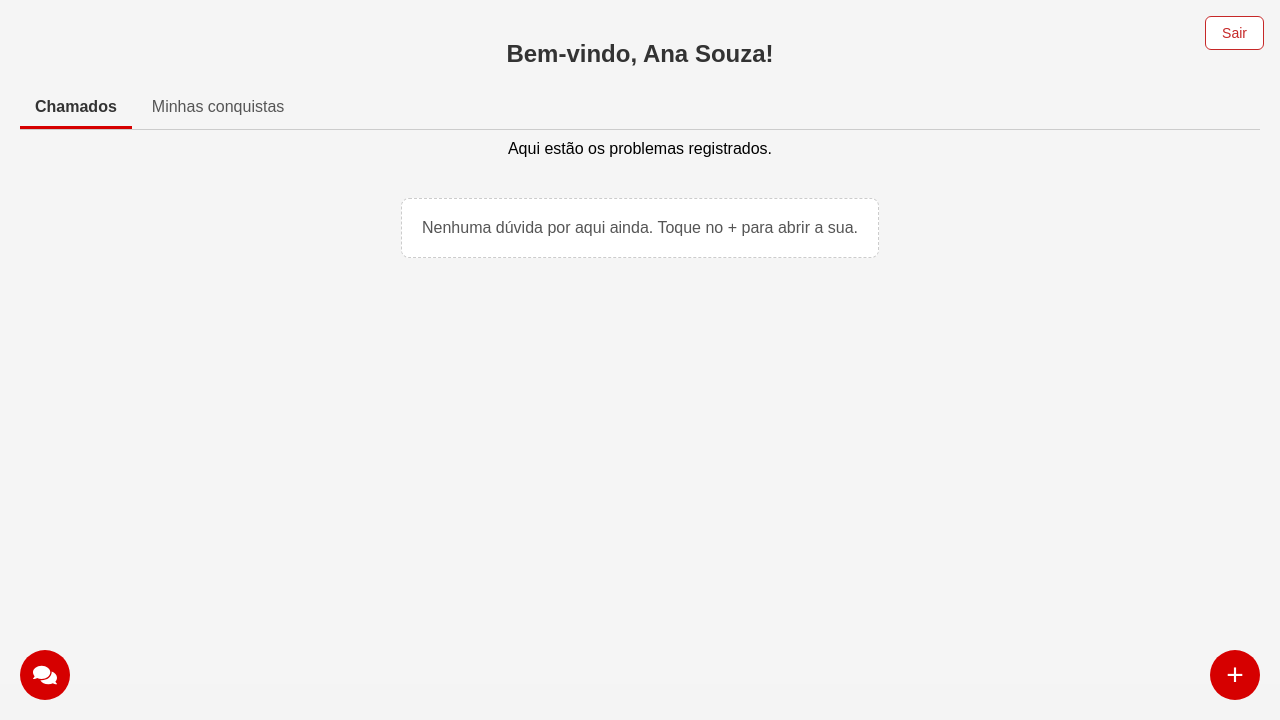
Test: TelaAluno — a vitrine "Minhas conquistas" (AC-PERK-06) › mostra a vitrine com o perk ativo do aluno
Click the tab "Minhas conquistas".
click(218, 108)  # box left=137, top=88, right=299, bottom=129
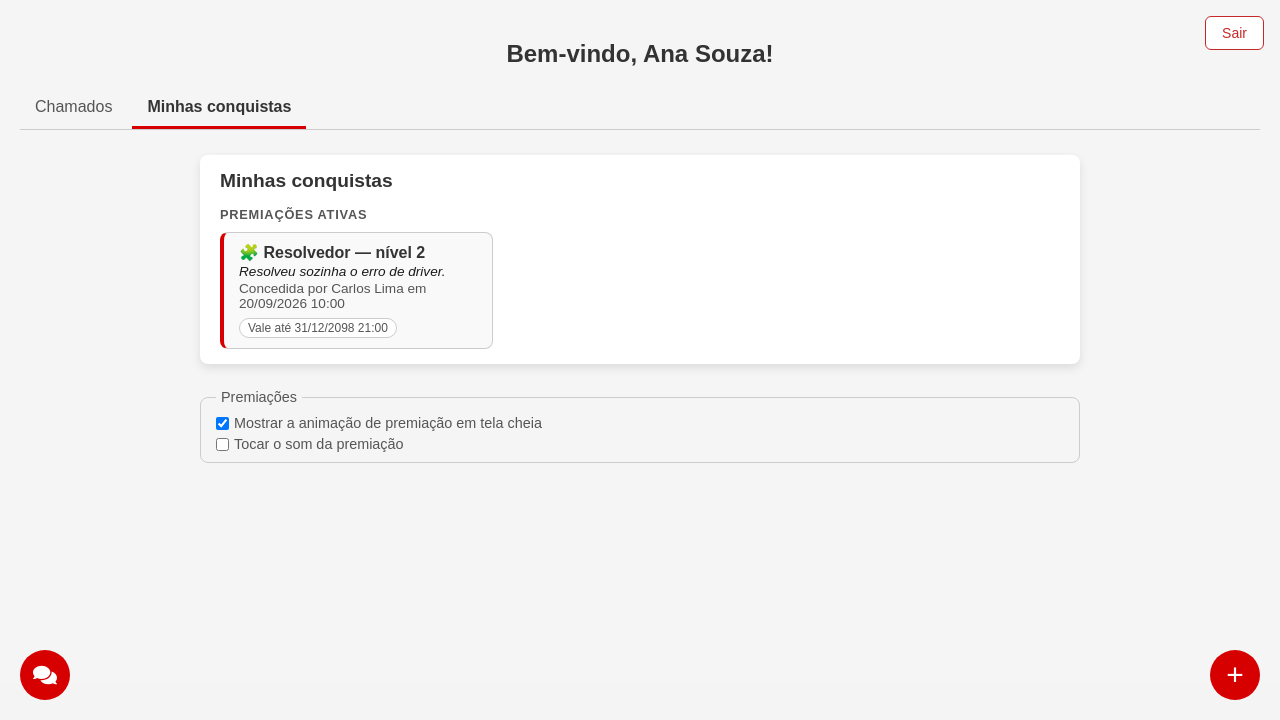
Now the text "🧩 Resolvedor — nível 2" is shown, box left=239, top=244, right=425, bottom=261
